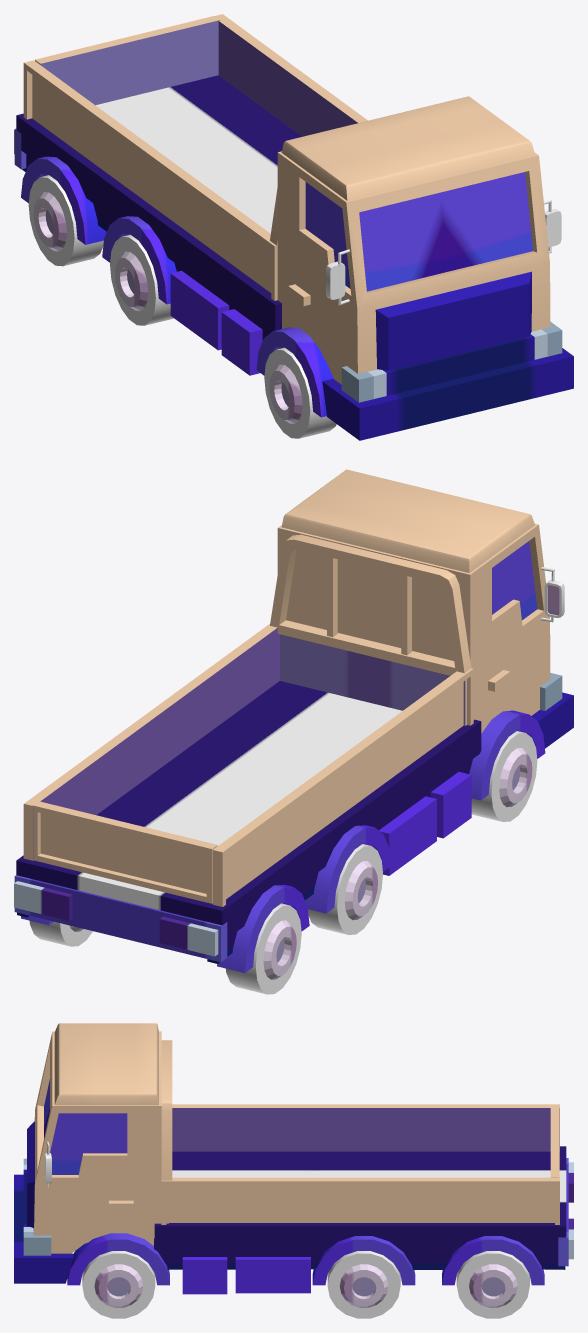
File: Brown_Middle_Truck_Open.fbx
The picture shows the model from 3 angles, top to bottom: view 1: azimuth 30°, elevation 25°; view 2: azimuth 150°, elevation 25°; view 3: azimuth 270°, elevation 25°; orthographic projection. The views are drawn at different scales.
Parts seen in each view (by area): view 1: Brown_Middle_Truck, Middle_Truck_Back_Door004; view 2: Brown_Middle_Truck, Middle_Truck_Back_Door004; view 3: Brown_Middle_Truck, Middle_Truck_Back_Door004.
Part boxes in pixels (bbox=[...]): Brown_Middle_Truck: bbox=[14, 14, 573, 440]; Middle_Truck_Back_Door004: bbox=[35, 16, 220, 105]; Brown_Middle_Truck: bbox=[14, 469, 573, 994]; Middle_Truck_Back_Door004: bbox=[32, 801, 217, 903]; Brown_Middle_Truck: bbox=[14, 1023, 573, 1318]; Middle_Truck_Back_Door004: bbox=[550, 1108, 559, 1177].
Bounding box in the file's own units: 222 × 243 × 570.
